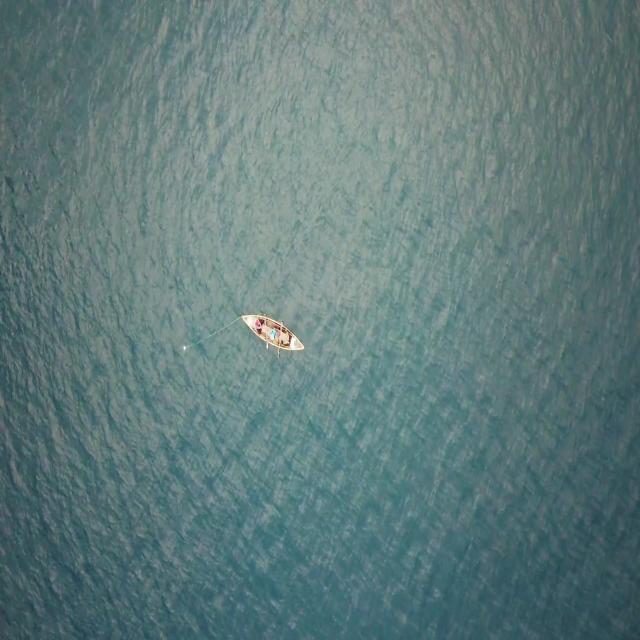ship: (238, 304, 307, 356)
